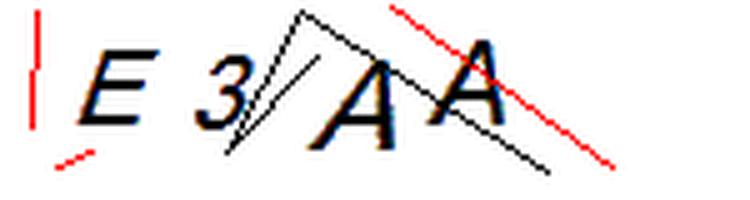3: (187, 50, 261, 138)
A: (303, 56, 411, 164), (421, 35, 517, 136)
E: (71, 41, 170, 135)
